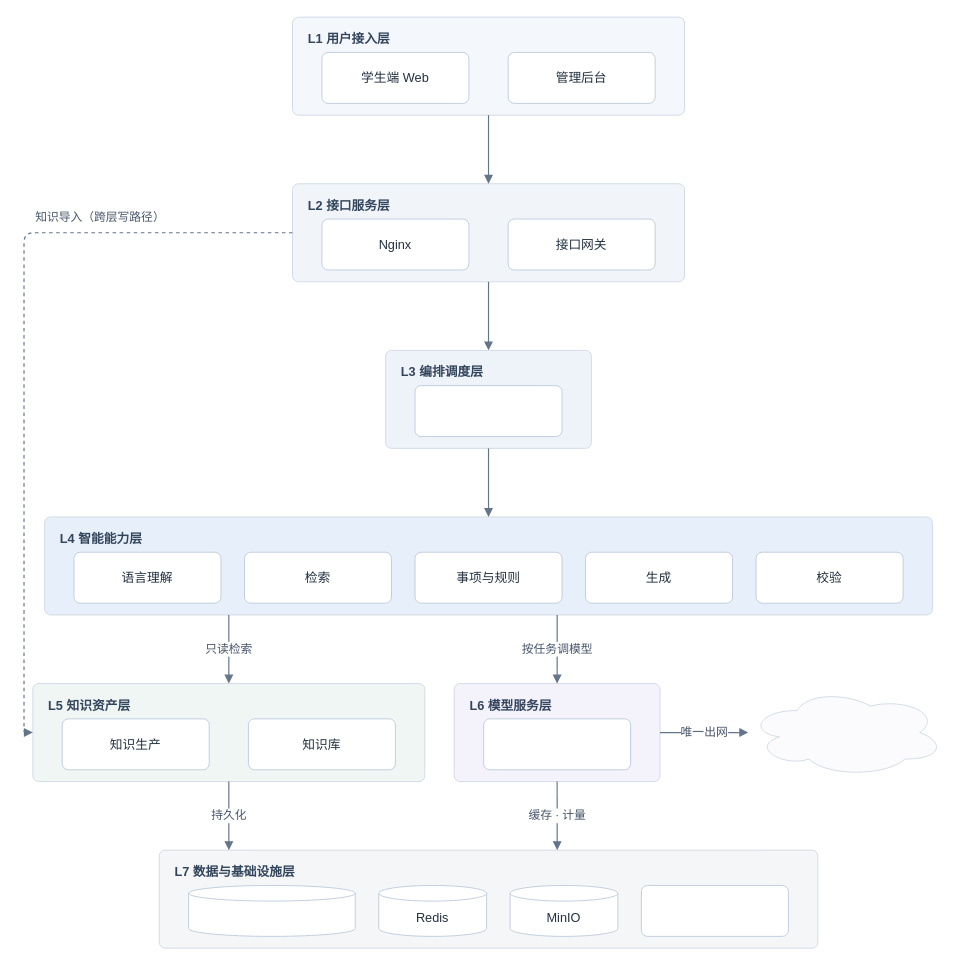
This 962x965 diagram has some shape labels left out. The centre of each missing label's shape, as x and y in pixels:
PostgreSQL + pgvector: the point at 271,910
会话与编排: the point at 488,411
外部模型 API: the point at 845,732
异步任务: the point at 714,910
模型网关: the point at 557,744
